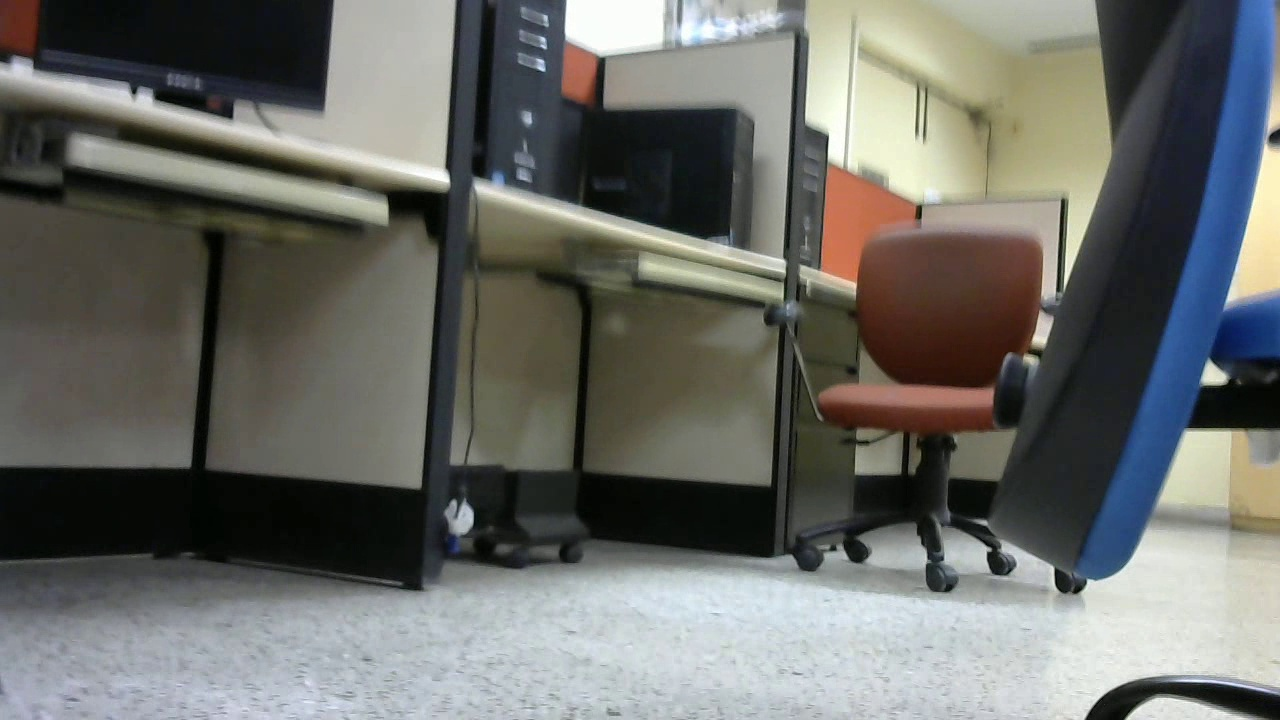chair: (100, 5, 538, 634)
